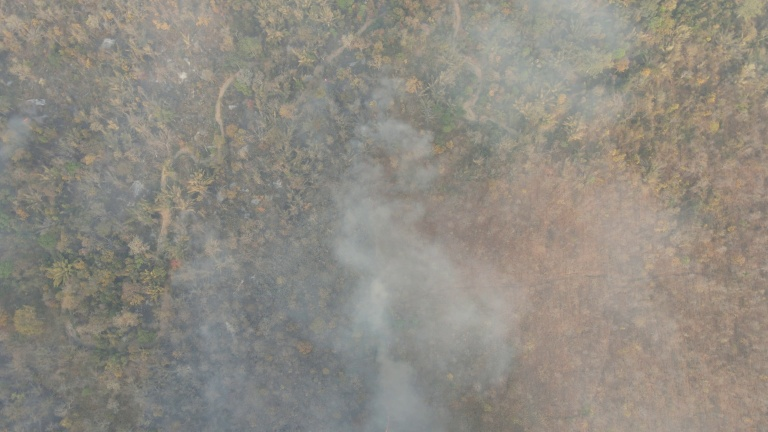smoke: (320, 189, 503, 427), (480, 5, 624, 112)
